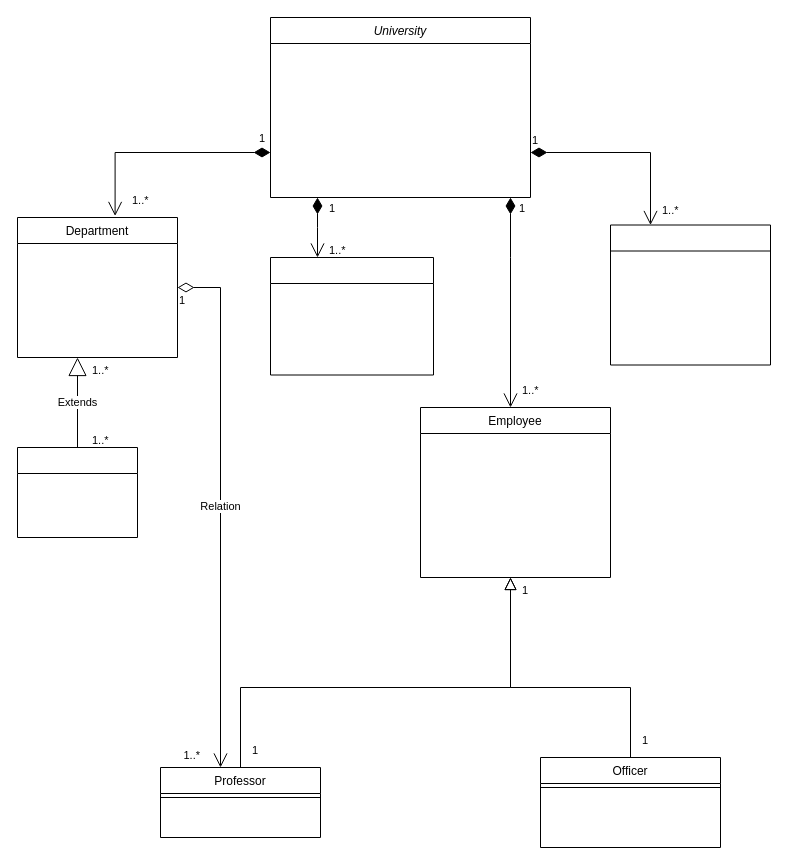
Some shapes in this 788 by 865 pixel diagram are drawn without their labels. Here are the shapes that lost their labels. From the top down, the box of each, then its label:
(610, 224, 770, 365): Workoffice
(270, 256, 434, 375): Class
(16, 446, 138, 538): Work office
